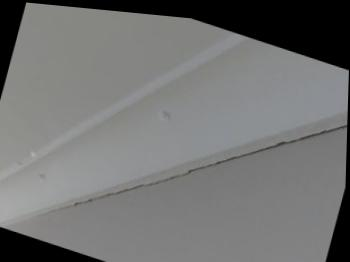crack: (75, 117, 348, 204)
